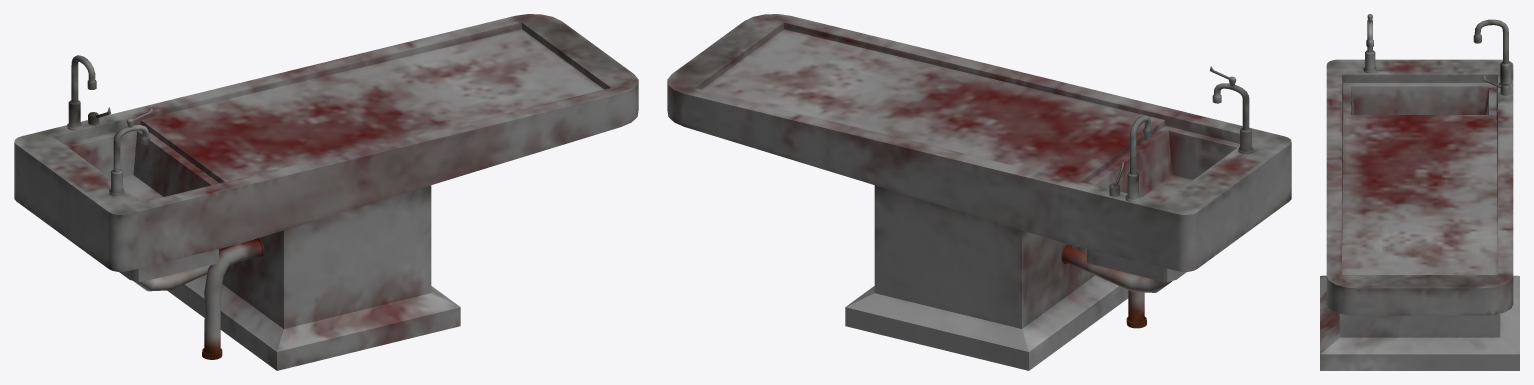
Rendered from autopsy_table.2195cc4629.glb.
3 renders of one model, left to right at view 1: azimuth 30°, elevation 25°; view 2: azimuth 150°, elevation 25°; view 3: azimuth 270°, elevation 25°, orthographic. The views are drawn at different scales.
Visible parts, largest first — view 1: autopsy_table; view 2: autopsy_table; view 3: autopsy_table.
Boxes of the visible parts, x1,y1,x2,y2 form: autopsy_table: (14,14,638,370); autopsy_table: (667,14,1291,370); autopsy_table: (1320,14,1519,370).
Bounding box in the file's own units: 2.23 × 1.07 × 0.8256.
Materials: 1 (1 with a texture image).
